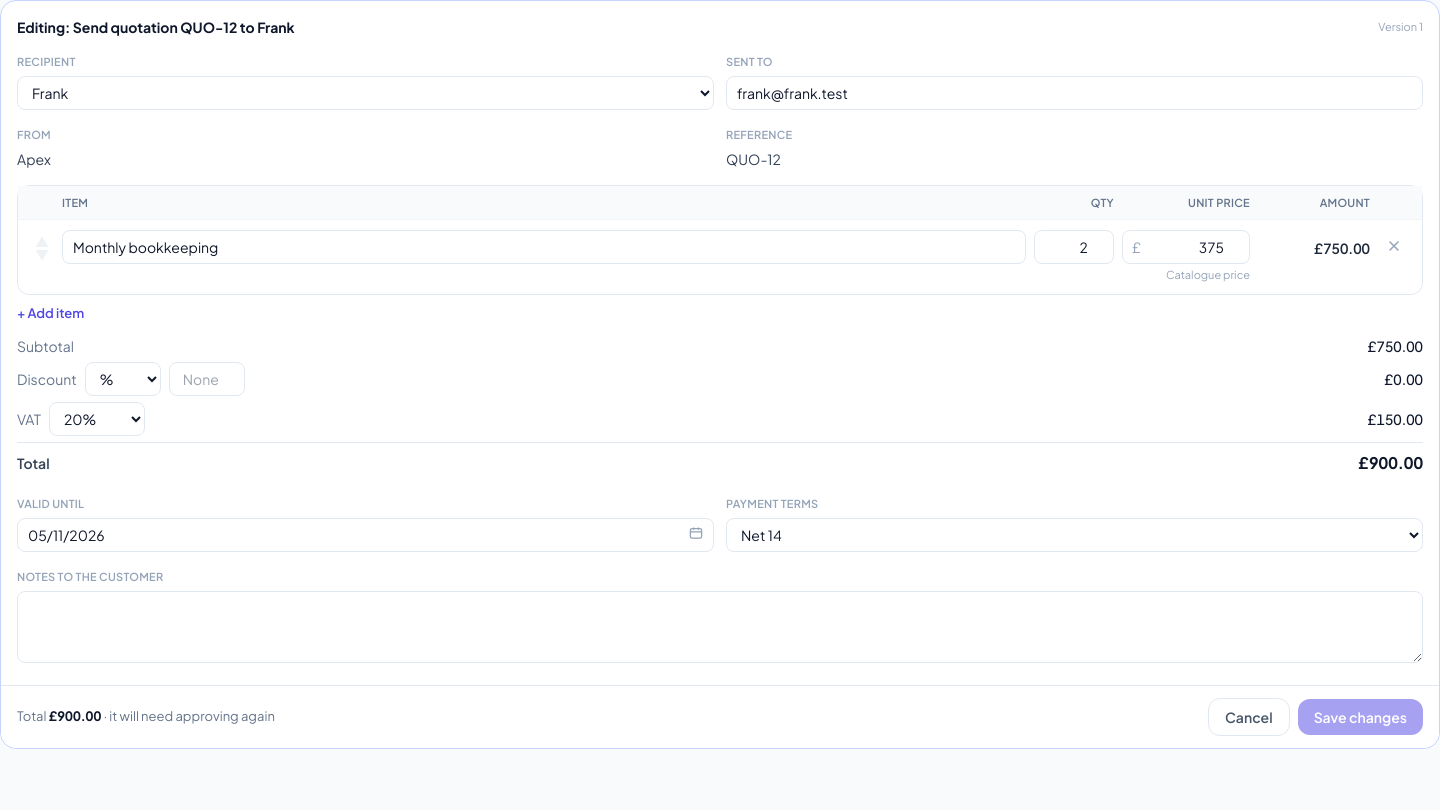
Test: the draft editor › checks the fields inline and keeps Save off until they are right
Replace the text in the number field named "Quantity" with "0" at (1074, 247), box x1=1034 y1=230 x2=1114 y2=264
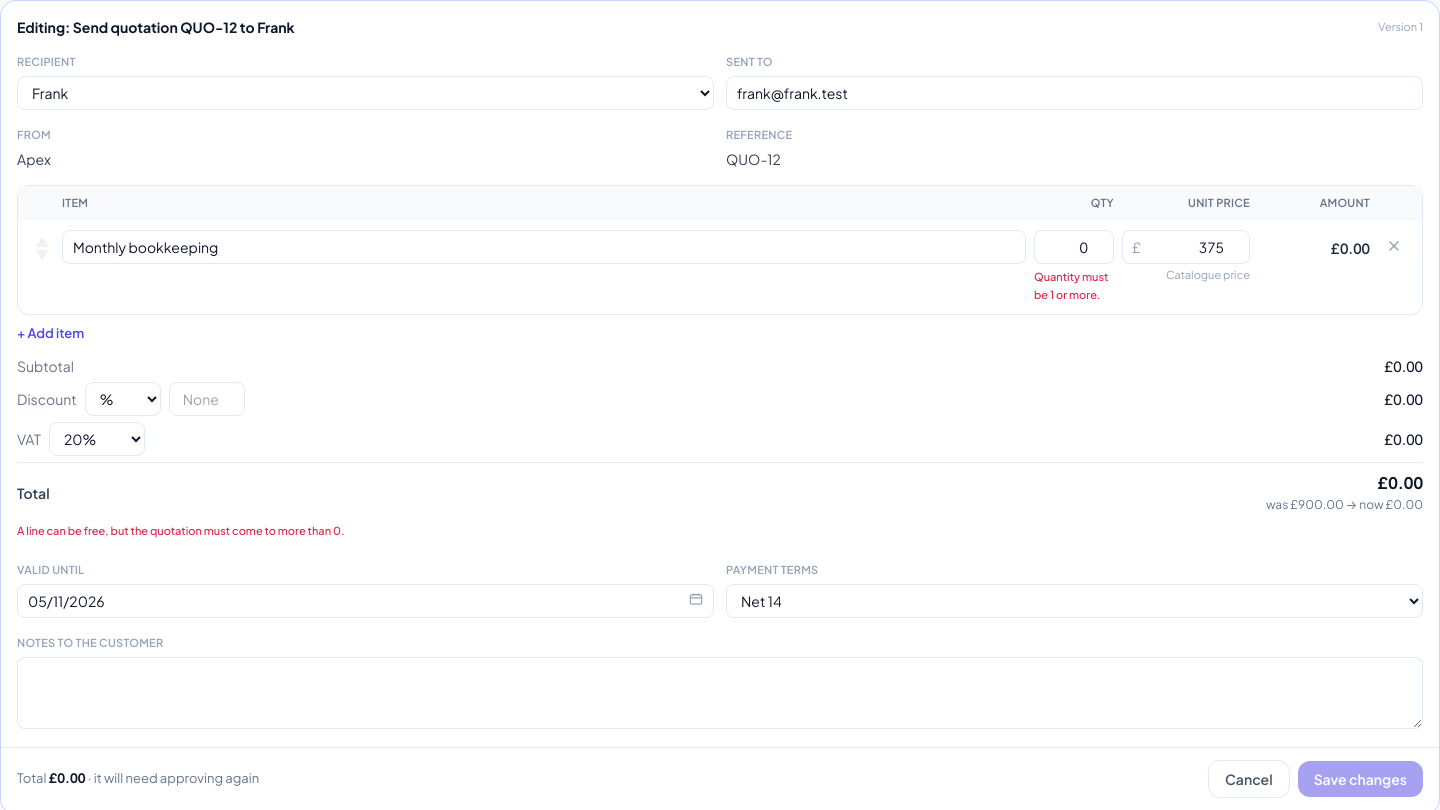
Check: the button "Save changes" is disabled, box x1=1298 y1=761 x2=1423 y2=797
Check: the text "Quantity must be 1 or more." is shown, box x1=1034 y1=268 x2=1114 y2=304
Replace the text in the number field named "Quantity" with "2" at (1074, 247), box x1=1034 y1=230 x2=1114 y2=264
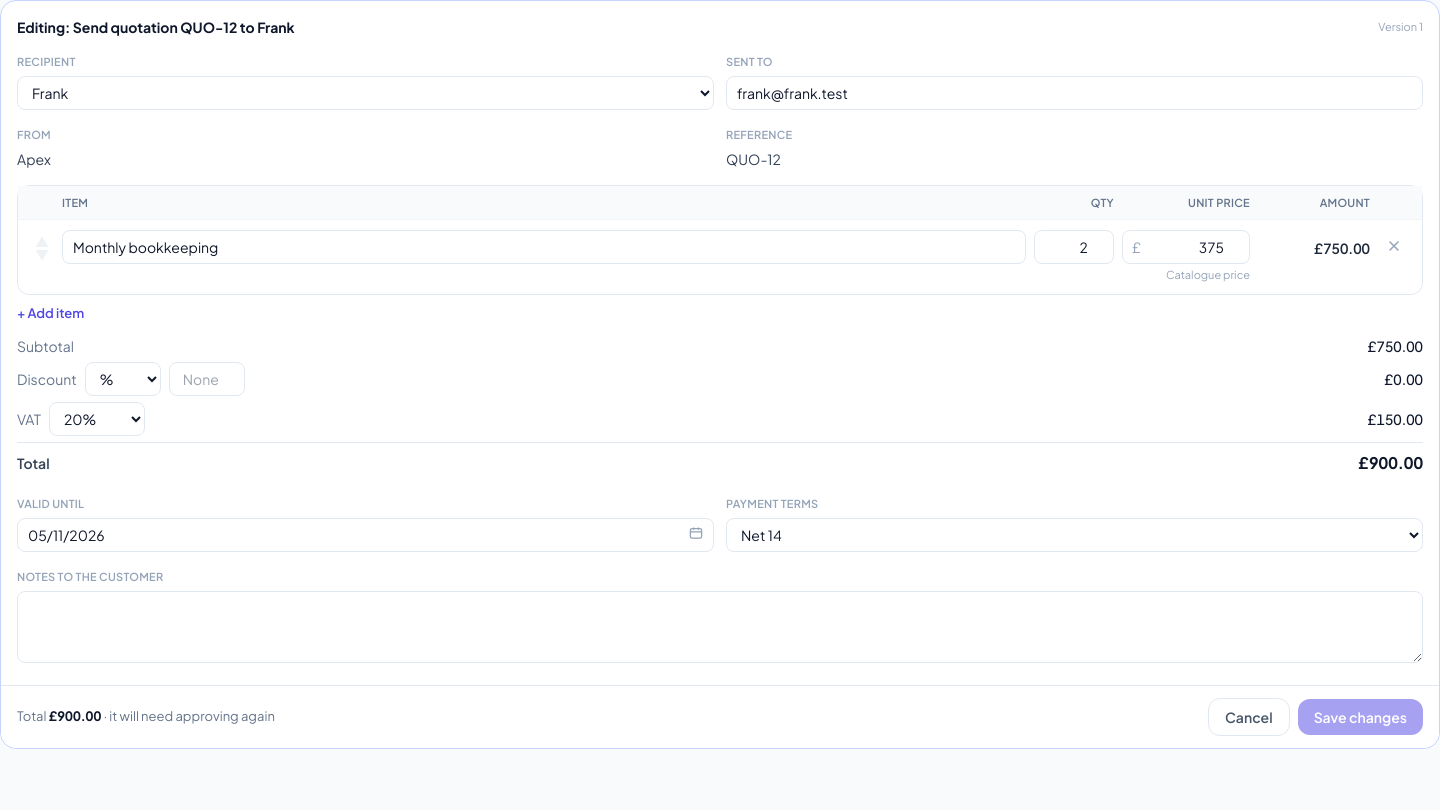
Replace the text in the field labelled "Sent to" with "frank@" at (1074, 93), box x1=726 y1=76 x2=1423 y2=110
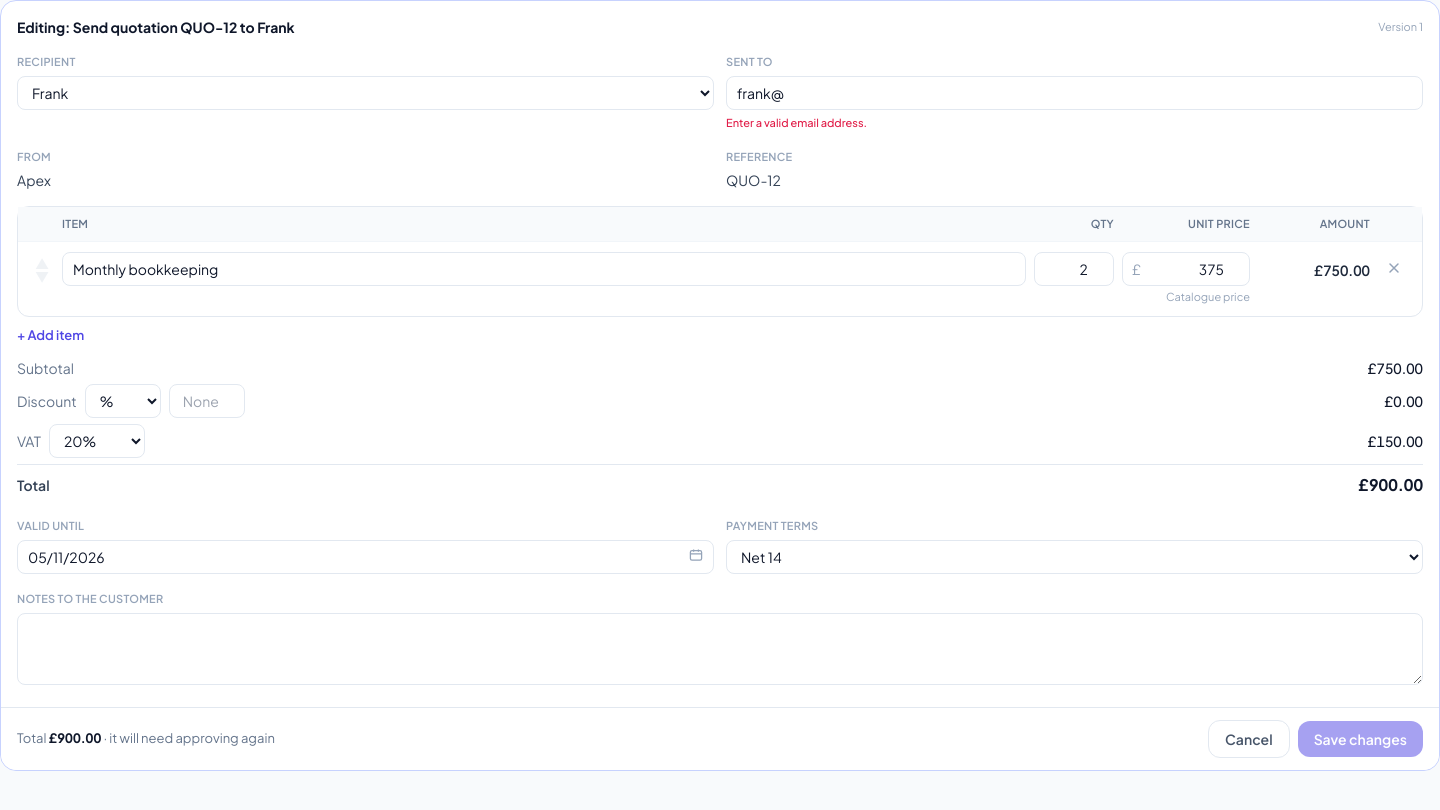
Check: the button "Save changes" is disabled, box x1=1298 y1=720 x2=1423 y2=756
Check: the text "Enter a valid email address." is shown, box x1=726 y1=116 x2=867 y2=129
Replace the text in the field labelled "Sent to" with "accounts@frank.test" at (1074, 93), box x1=726 y1=76 x2=1423 y2=110
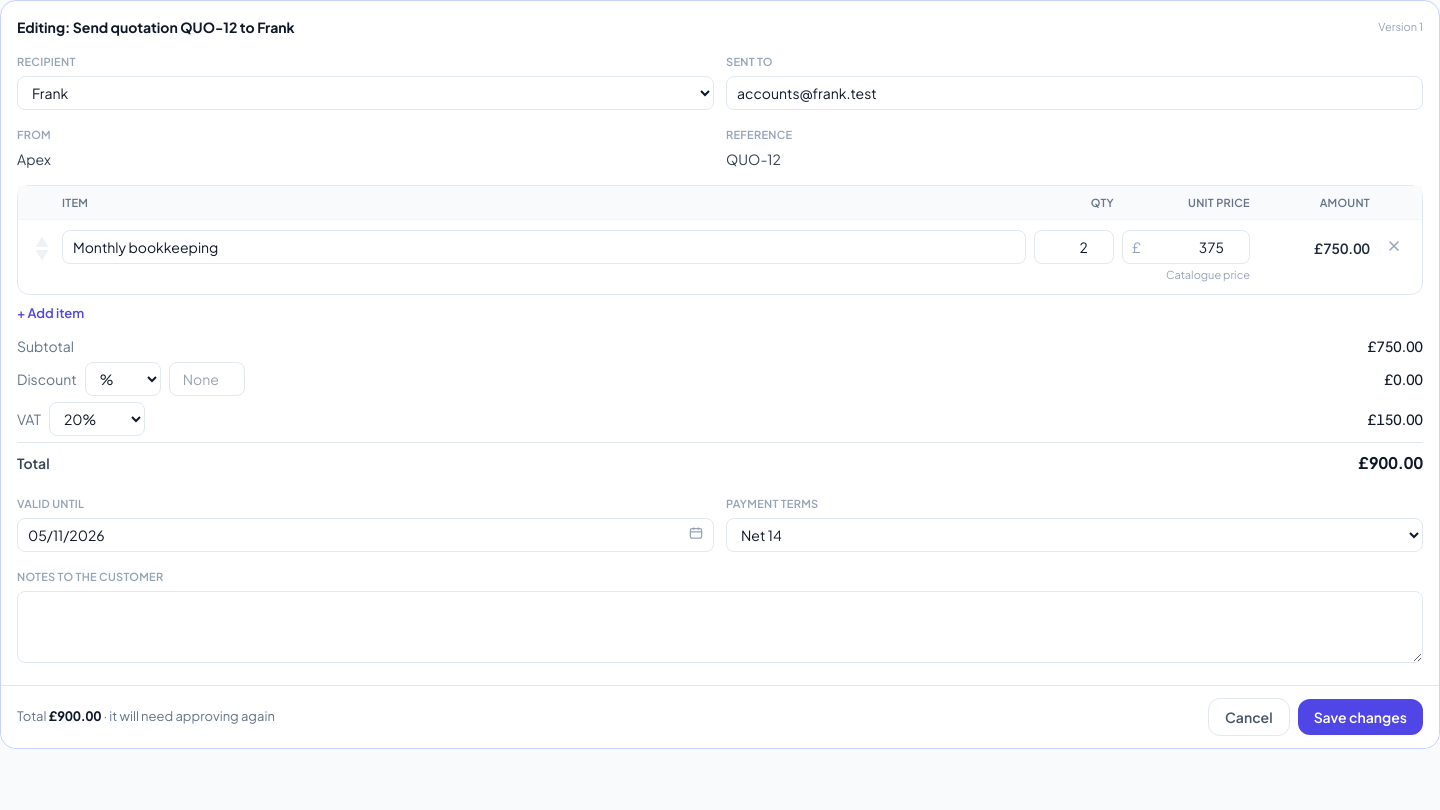
Check: the button "Save changes" is enabled, box x1=1298 y1=699 x2=1423 y2=735
Click the button named "Remove Monthly bookkeeping" at (1394, 246), box x1=1378 y1=230 x2=1410 y2=262
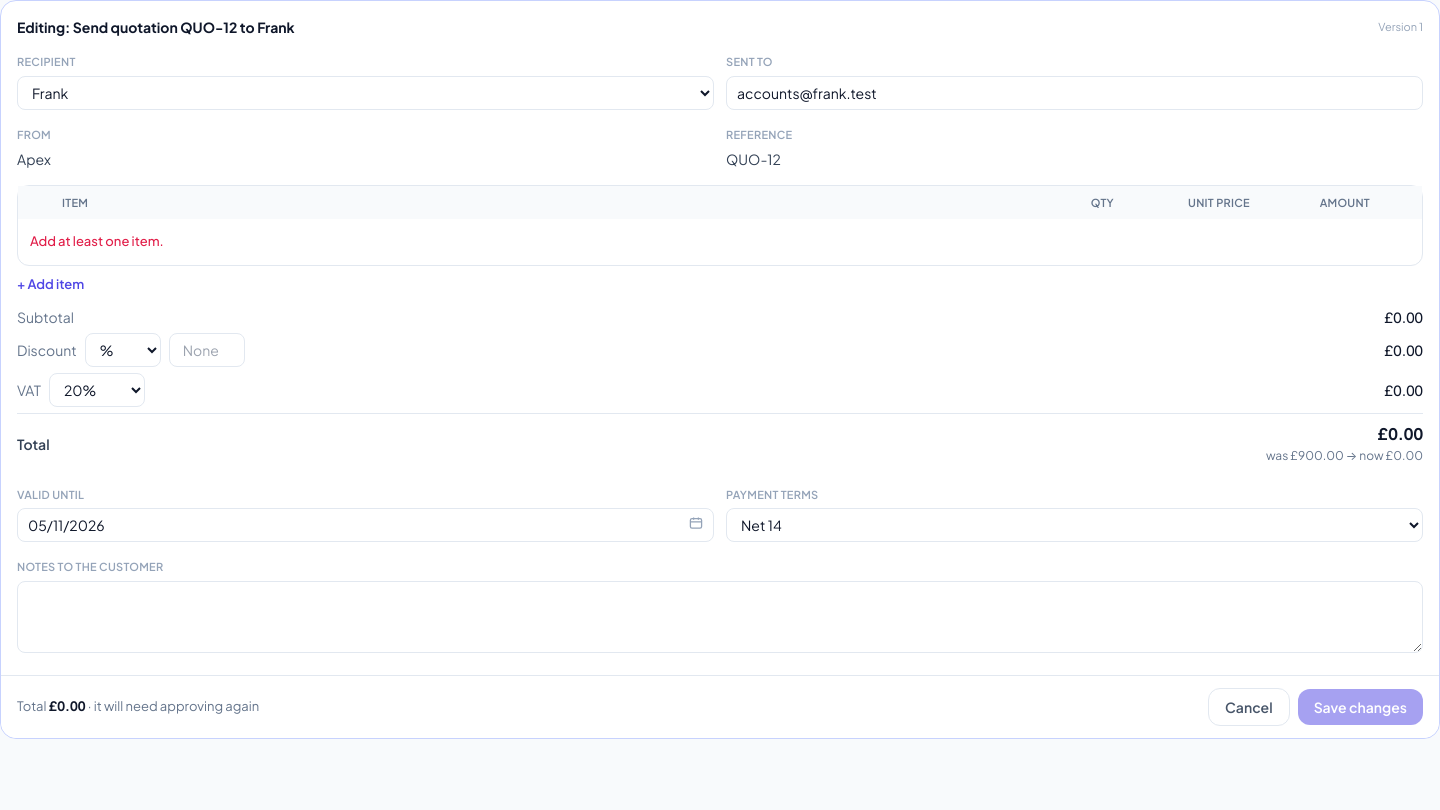
Check: the text "Add at least one item." is shown, box x1=30 y1=233 x2=164 y2=249
Check: the button "Save changes" is disabled, box x1=1298 y1=689 x2=1423 y2=725
